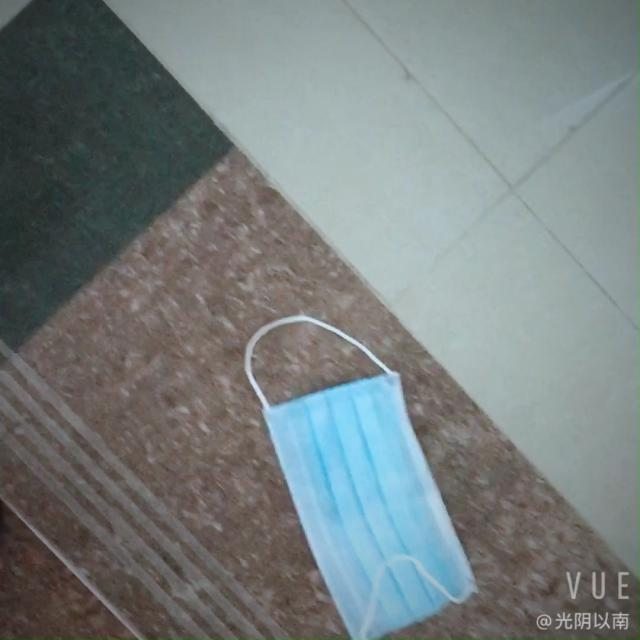face mask: (260, 366, 486, 637)
